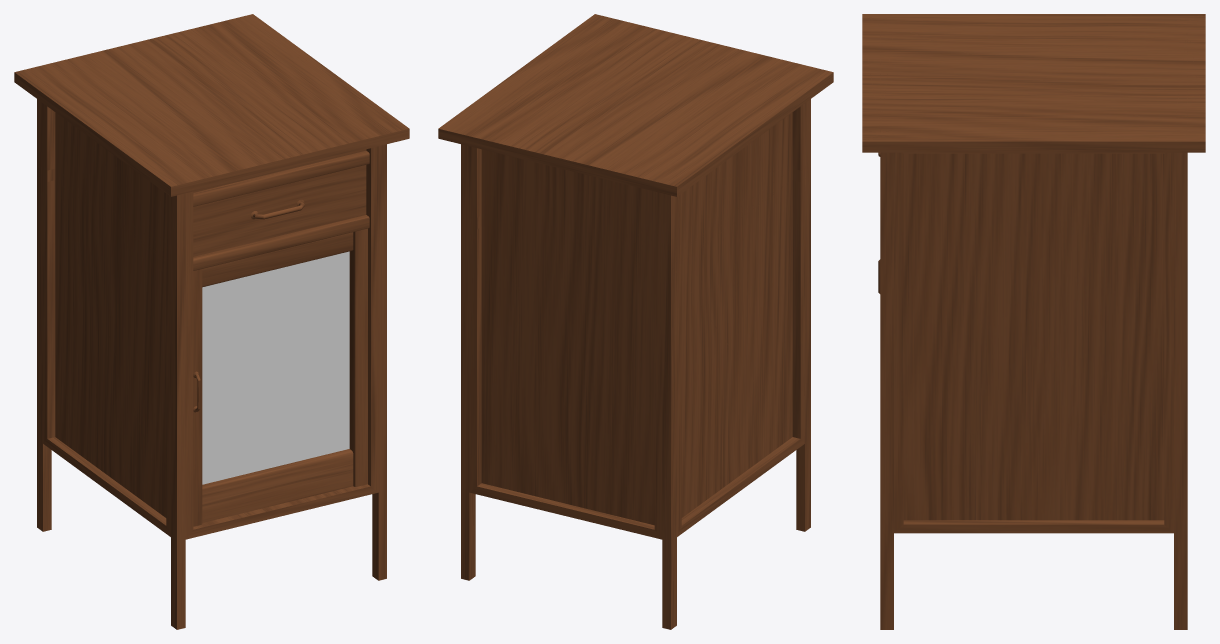
File: M_Furniture_007.fbx
The picture shows the model from 3 angles, left to right: view 1: azimuth 30°, elevation 25°; view 2: azimuth 150°, elevation 25°; view 3: azimuth 270°, elevation 25°; orthographic projection. The views are drawn at different scales.
Visible parts, largest first — view 1: M_Furniture_007; view 2: M_Furniture_007; view 3: M_Furniture_007.
Boxes of the visible parts, x1,y1,x2,y2 form: M_Furniture_007: (14,14,409,629); M_Furniture_007: (438,14,833,629); M_Furniture_007: (862,14,1205,629).
Size of the model in its own units: 71.59 by 130 by 81.41.
2 materials, 1 textured.
